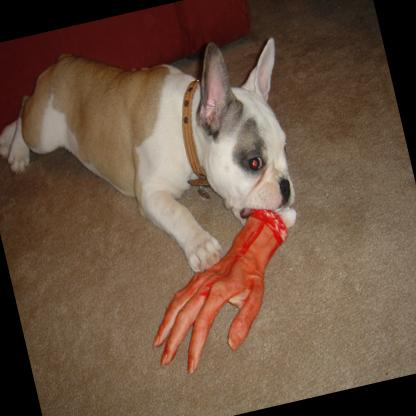French_bulldog: (0, 5, 320, 311)
